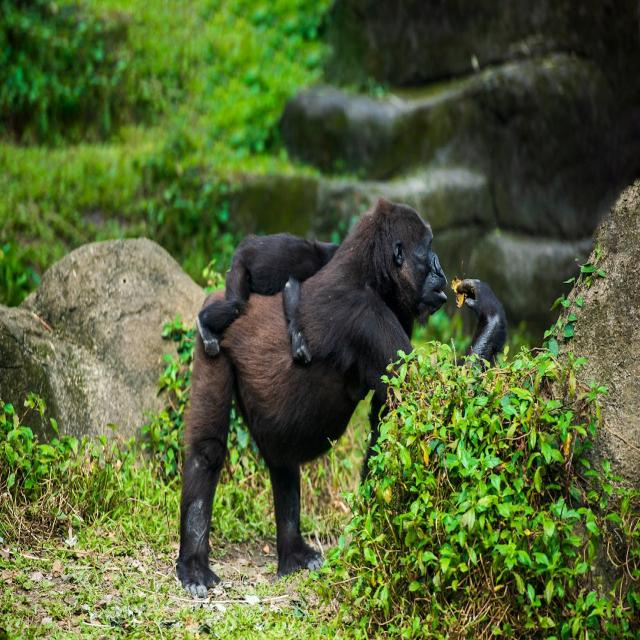Gorilla: (175, 201, 508, 600), (194, 233, 340, 367)
